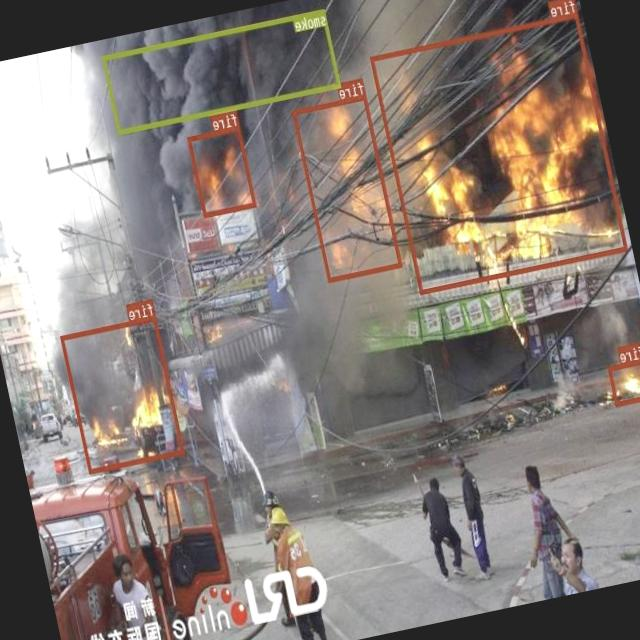fire: (370, 12, 628, 293), (292, 94, 402, 281), (60, 314, 185, 472), (187, 125, 257, 216), (608, 357, 640, 404)
smoke: (102, 8, 341, 133)
